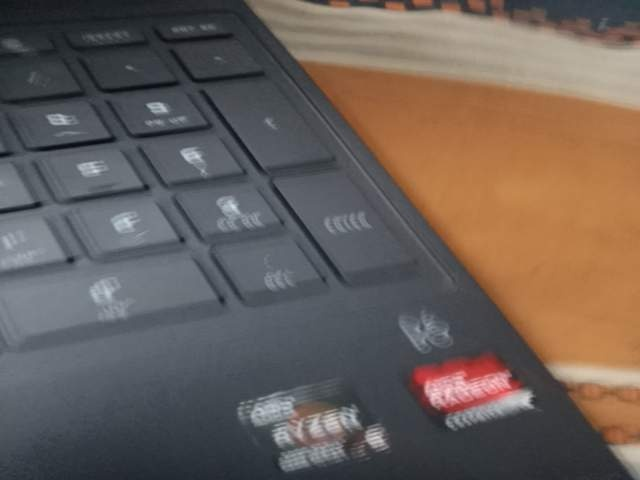pothole: (105, 403, 316, 480), (519, 403, 640, 480)
